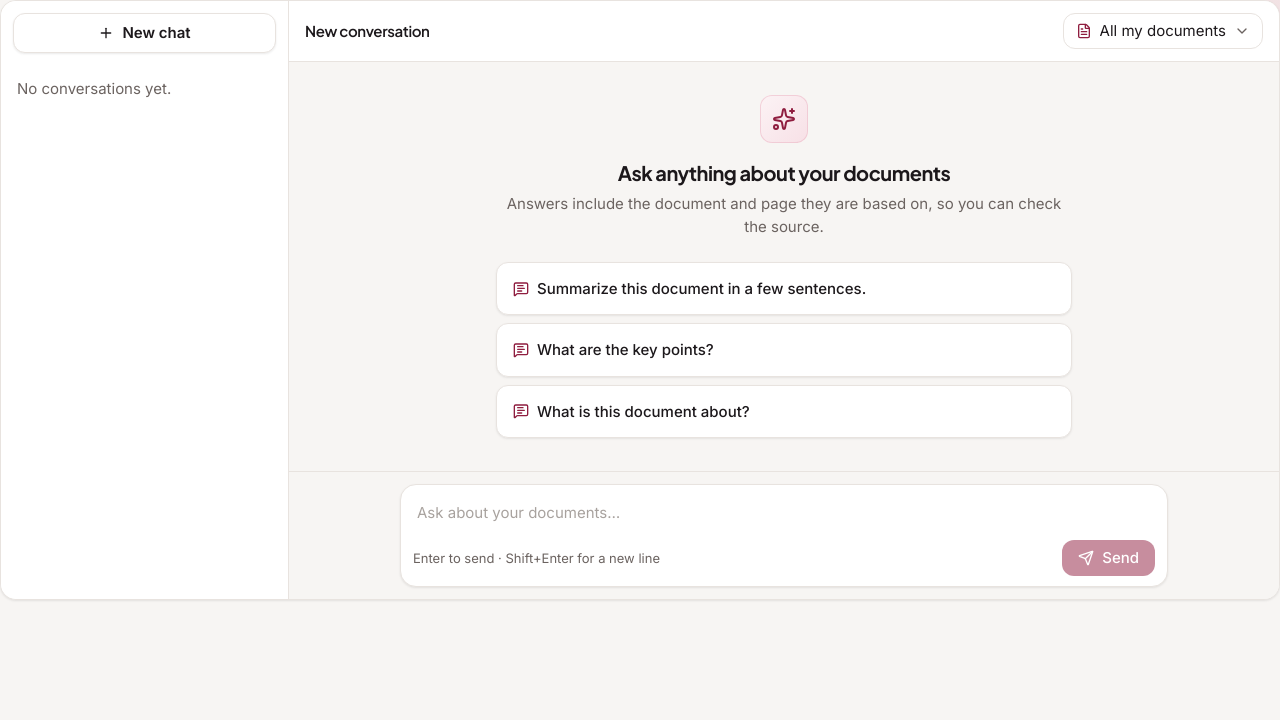
Test: Assistant chat › sends a question, creates a conversation, and shows the answer with citations
The image size is (1280, 720).
(page scrolled)
Type "What is the leave policy?" into the text box named "Ask a question about your documents". click: (784,512)
box: [409,493,1159,532]
Then press Enter
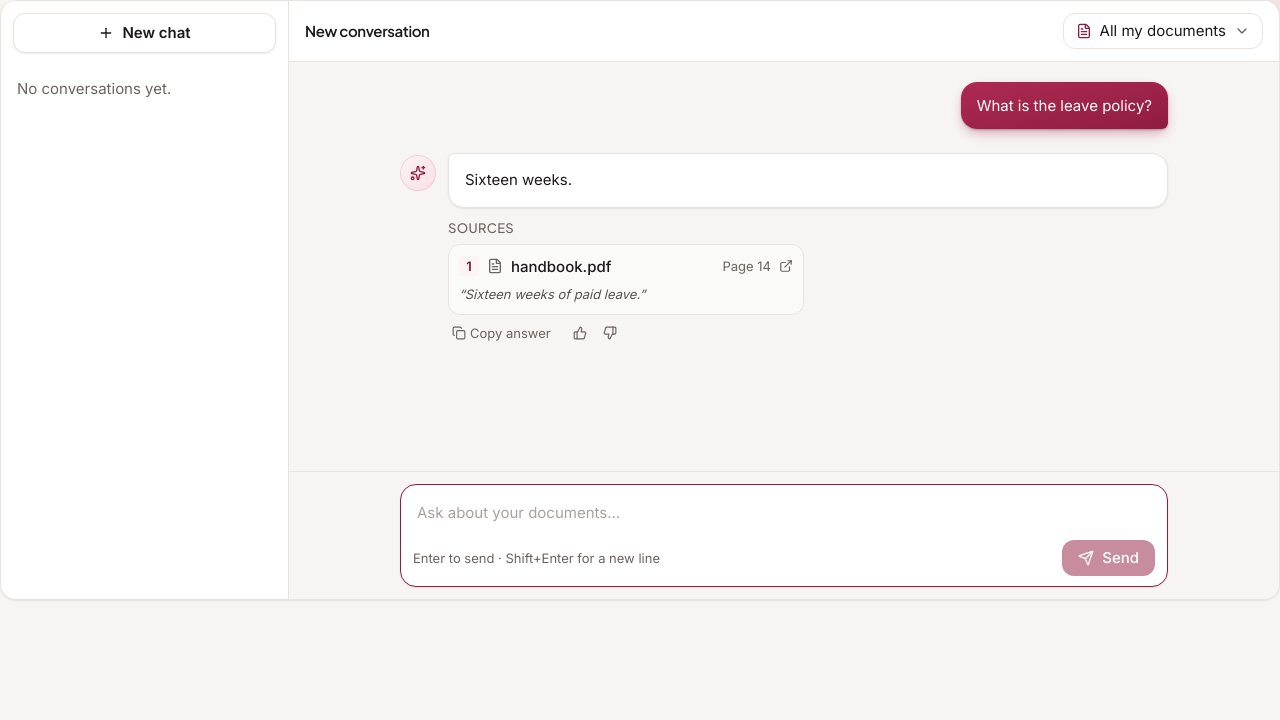
Result: the text "Sixteen weeks." is shown at [465,170,572,189]
Result: the text "Page 14" is shown at [722,256,771,276]
